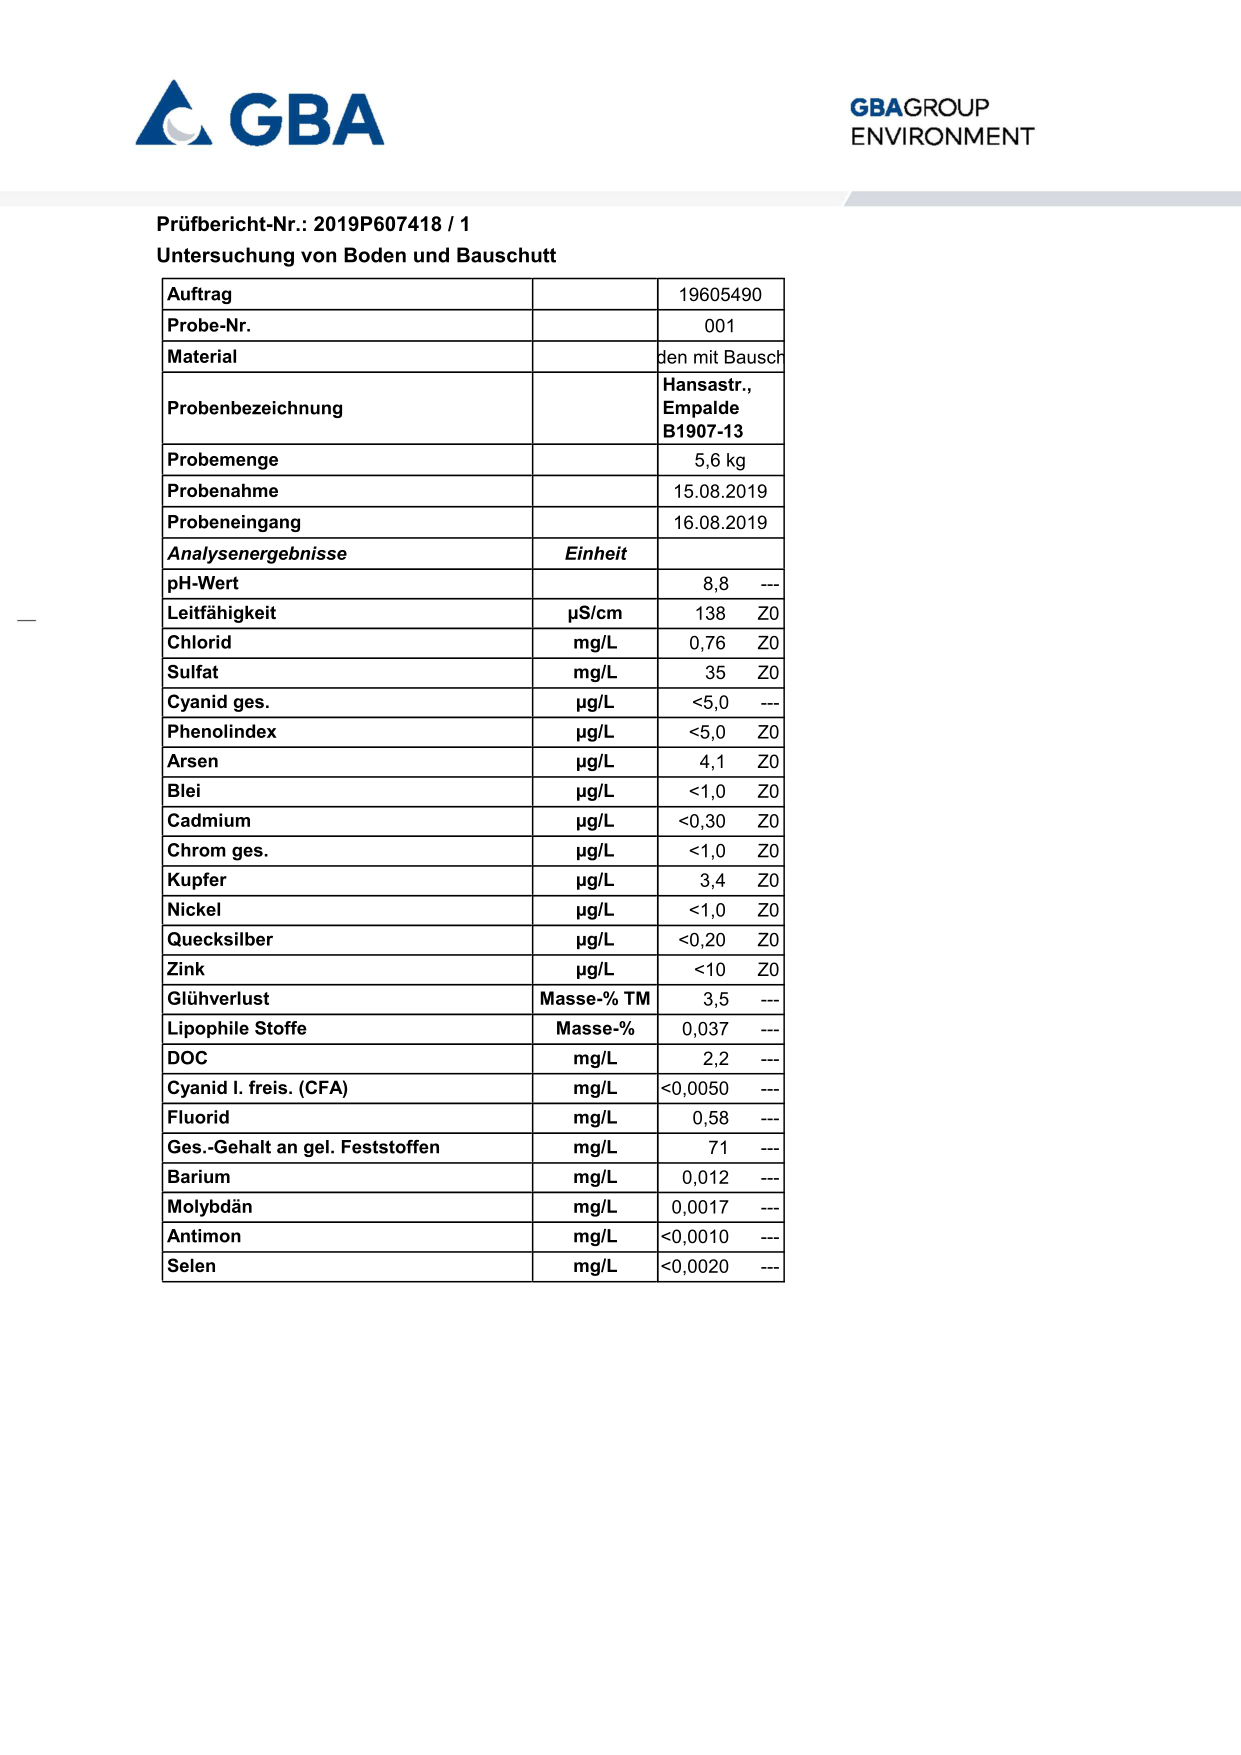table: (142, 267, 802, 1301)
